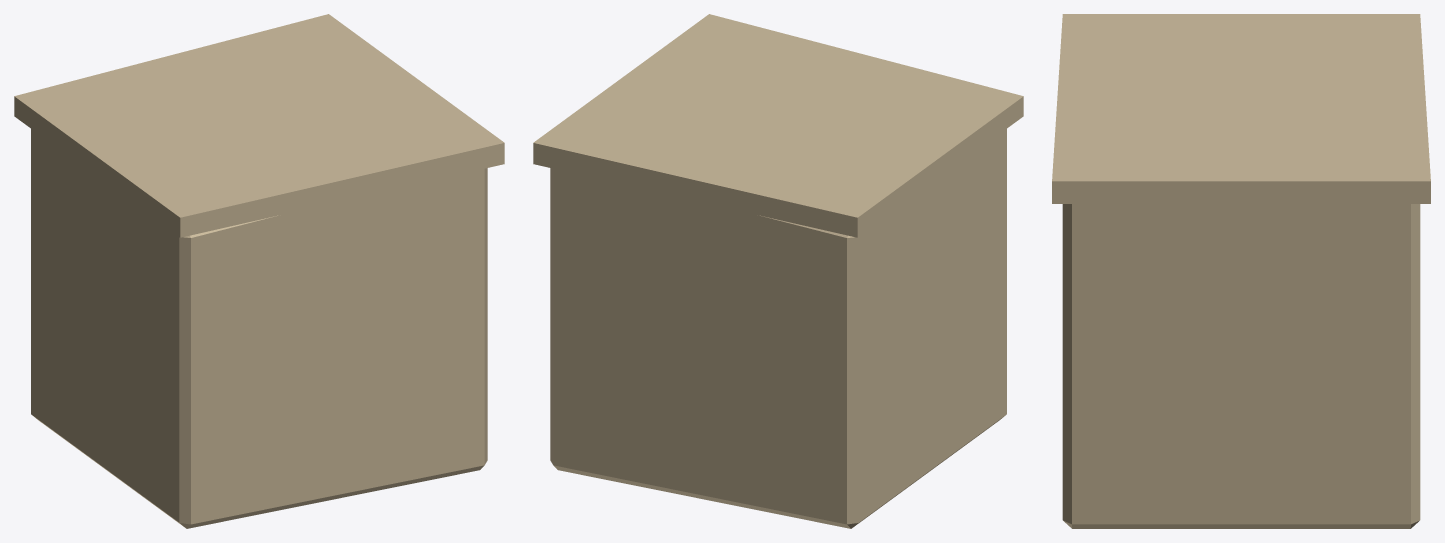
File: orange_tank.glb
3 views of the same model, side by side, from view 1: azimuth 30°, elevation 25°; view 2: azimuth 150°, elevation 25°; view 3: azimuth 270°, elevation 25° (orthographic). The views are drawn at different scales.
Visible parts, largest first — view 1: WB002V2_OrangeRoofTank.004; view 2: WB002V2_OrangeRoofTank.004; view 3: WB002V2_OrangeRoofTank.004.
Boxes of the visible parts, <box> form: WB002V2_OrangeRoofTank.004: <box>14,14,504,528</box>; WB002V2_OrangeRoofTank.004: <box>533,14,1023,528</box>; WB002V2_OrangeRoofTank.004: <box>1052,14,1430,528</box>.
Size of the model in its own units: 2 by 1.98 by 1.91.
